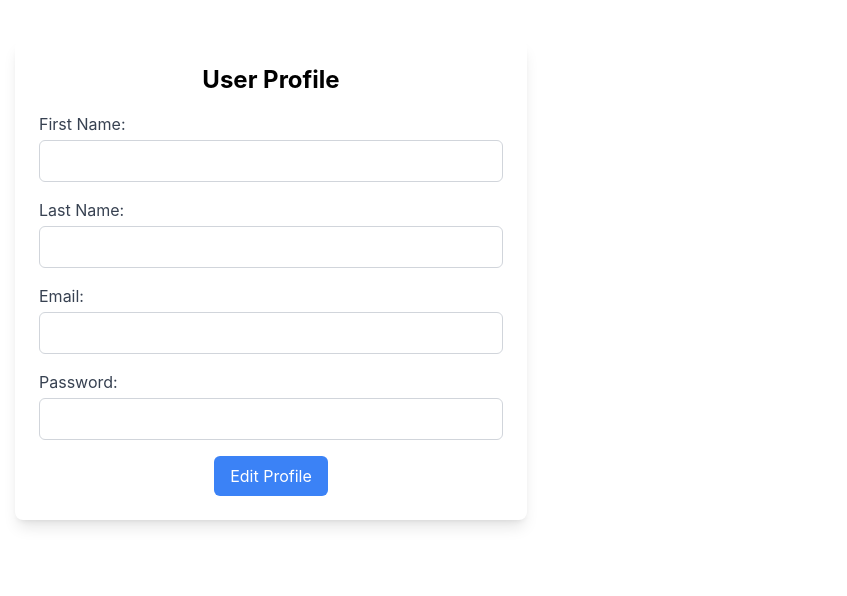
Scenario: Profile (integration) › shows backend error message when update fails
Type "pw" into the password field labelled "Password:" at (271, 419), box [39,398,503,440]
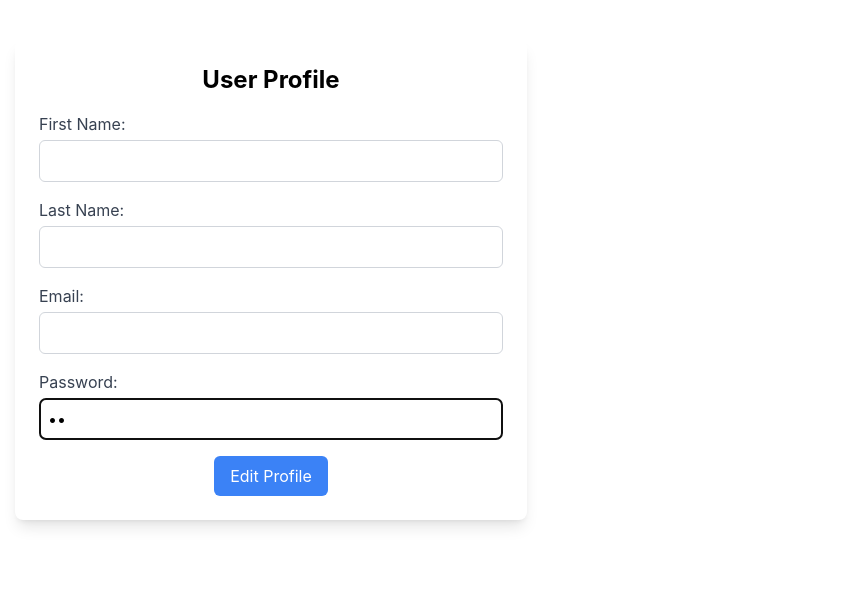
Click the button "Edit Profile" at (271, 476), box [214,456,328,496]
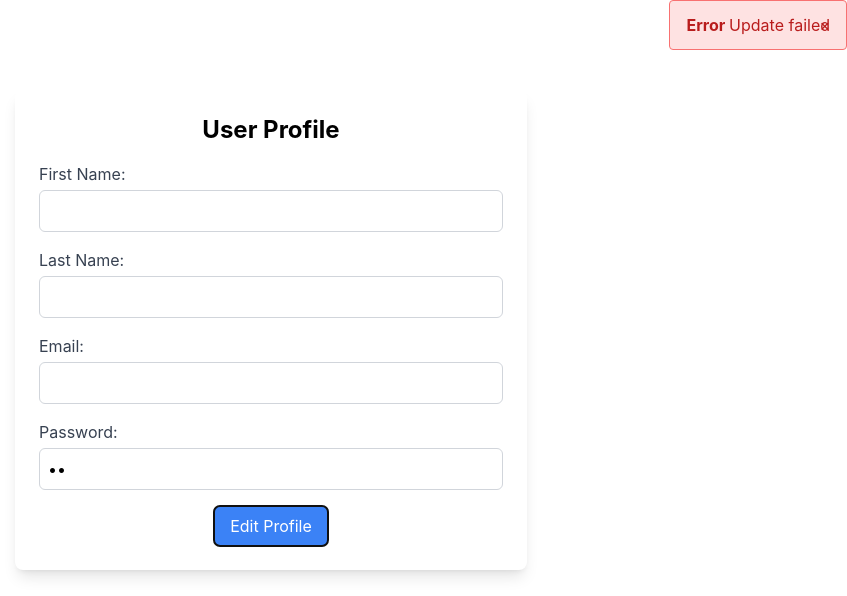
Now the text "Update failed" is shown, box [729,15,830,35]
